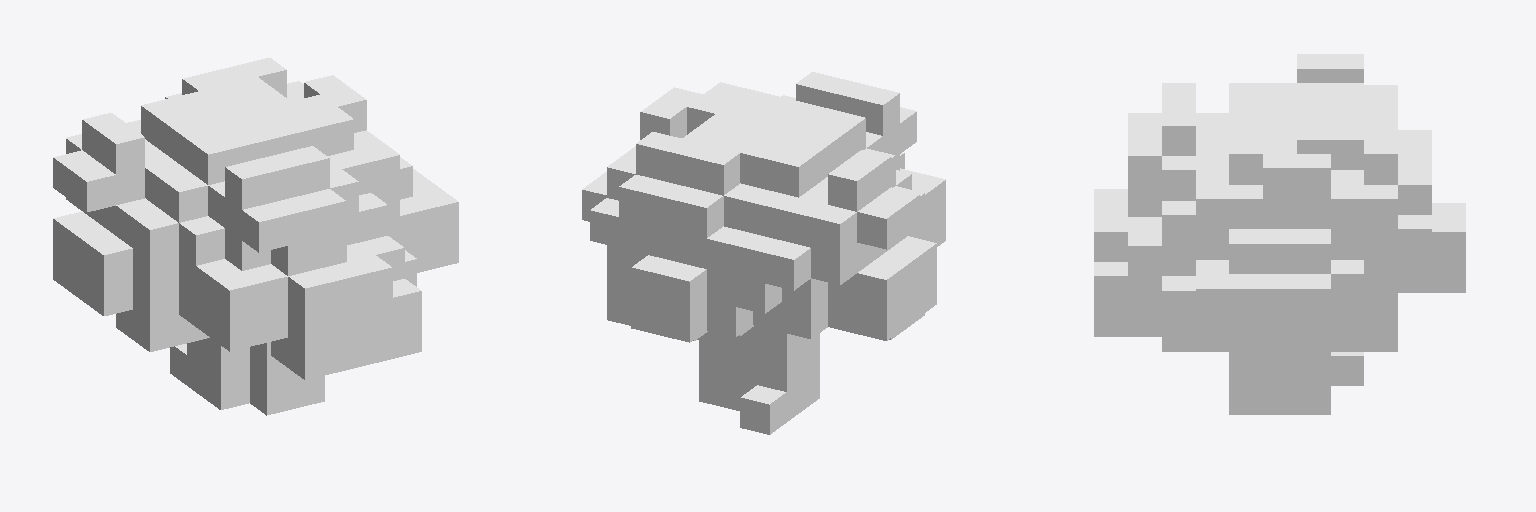
File: bush01.obj
3 renders of one model, left to right at view 1: azimuth 30°, elevation 25°; view 2: azimuth 150°, elevation 25°; view 3: azimuth 270°, elevation 25°, orthographic.
Bounding box in the file's own units: 11 × 9 × 11.